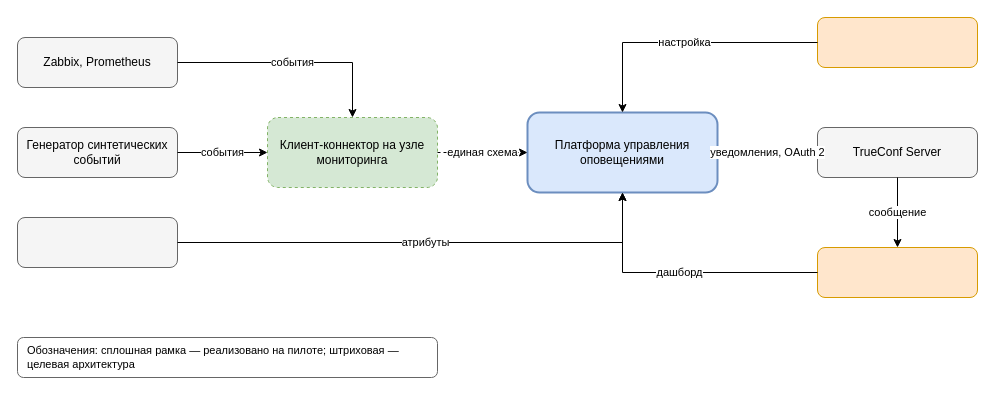
This 995x395 diagram has some shape labels left out. The centre of each missing label's shape, as x and y in pixels:
"Active Directory (справочник)" goes at point (97, 242).
"Администратор" goes at point (897, 42).
"Дежурный инженер" goes at point (897, 272).
